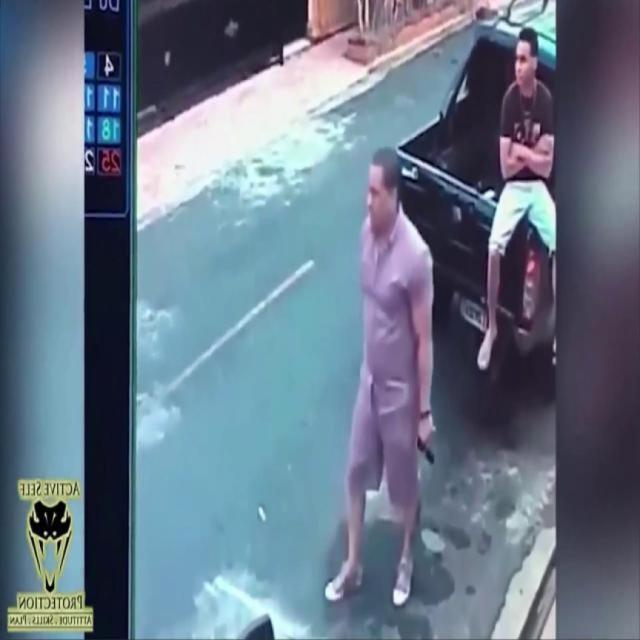pistol: (416, 432, 436, 465)
